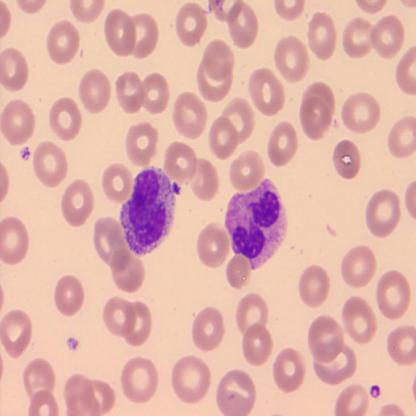Metamyelocyte: (119, 166, 182, 258)
